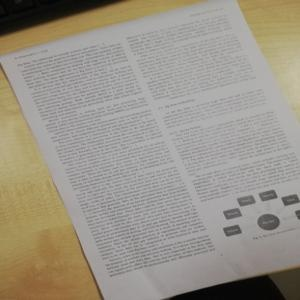diagram: (223, 187, 300, 239)
text: (17, 43, 217, 281), (127, 5, 258, 100), (170, 109, 288, 170), (193, 152, 300, 204), (162, 82, 266, 125)
